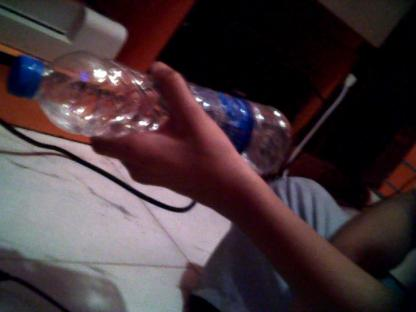Plastic Bottle: (12, 47, 314, 177)
